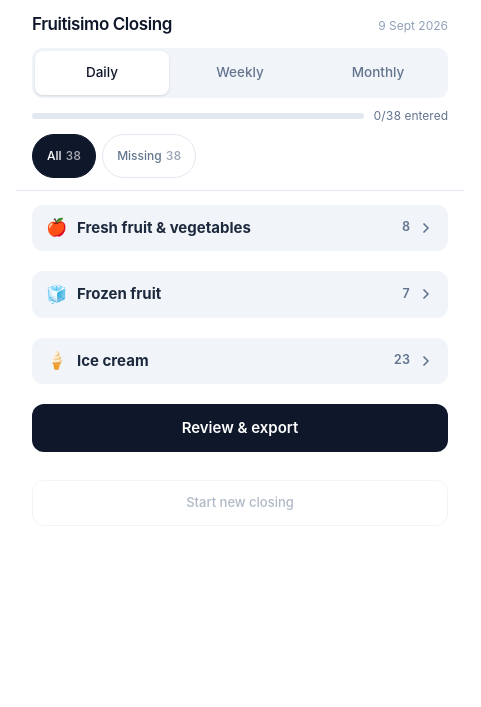
Test case: switching closing type › hides weekly-only products from the daily closing
This screenshot has width=481, height=707.
Click the button "🍎 Fresh fruit & vegetables 8" at (240, 228), box [32, 204, 448, 251]
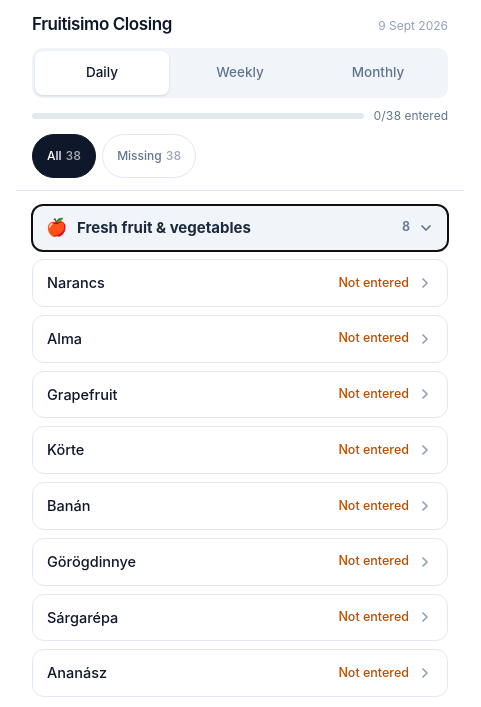
Check: the button "Cékla" is not shown
Click the tab "Weekly" at (240, 72), box [173, 50, 307, 94]
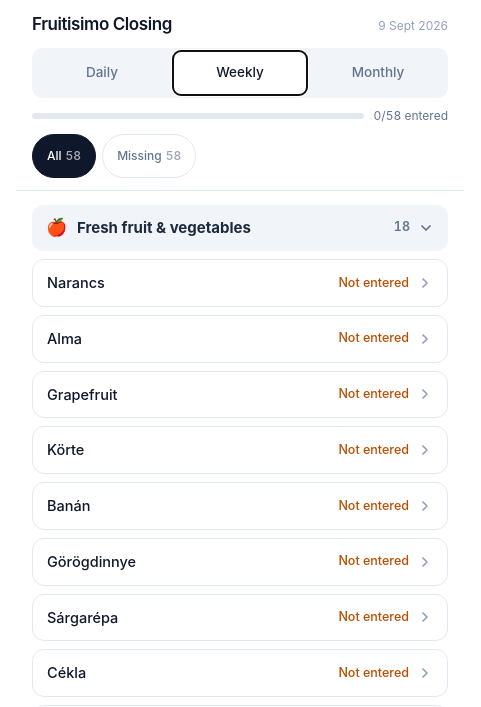
Check: the button "Cékla Not entered" is shown, box [33, 650, 447, 696]
